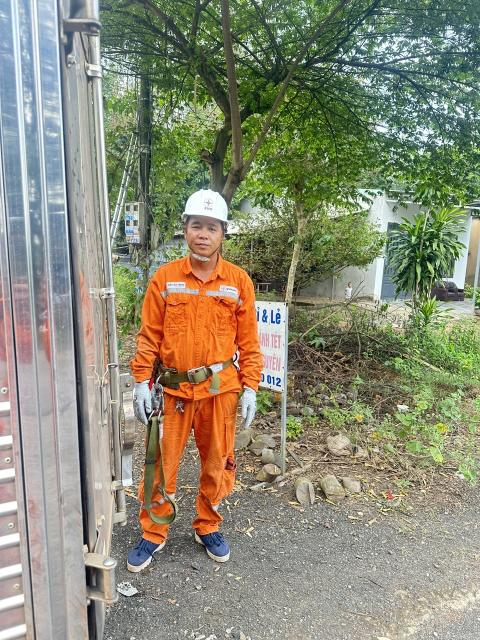gloves: (117, 376, 166, 424), (231, 388, 265, 435)
harness: (138, 346, 263, 410)
helmet: (178, 187, 246, 232)
shoes: (116, 533, 186, 578), (192, 529, 244, 572)
